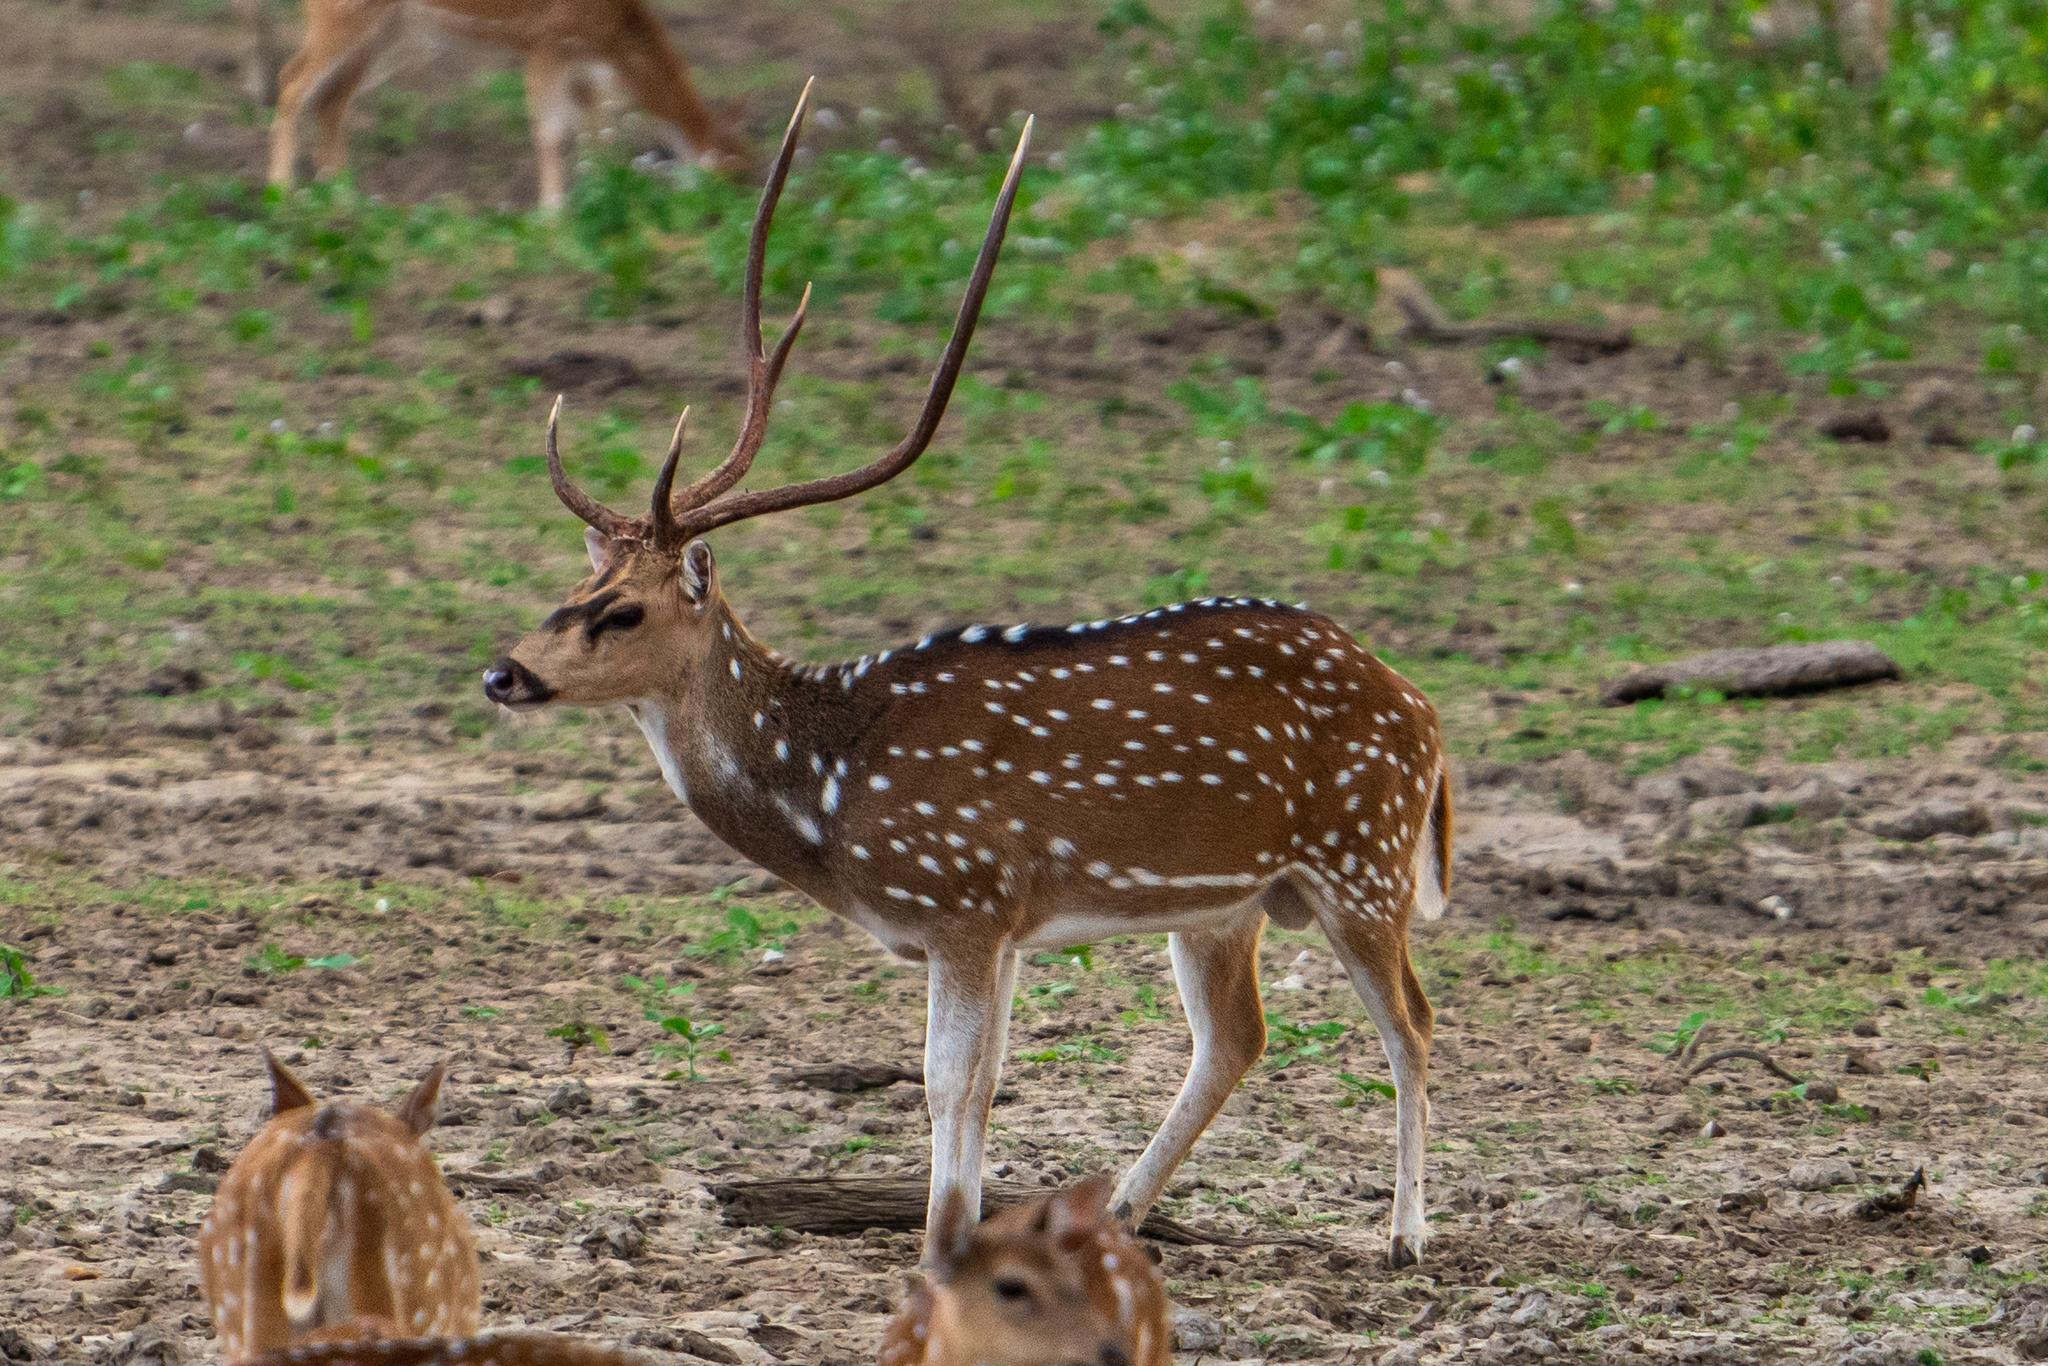Deer: (485, 85, 1452, 1267)
